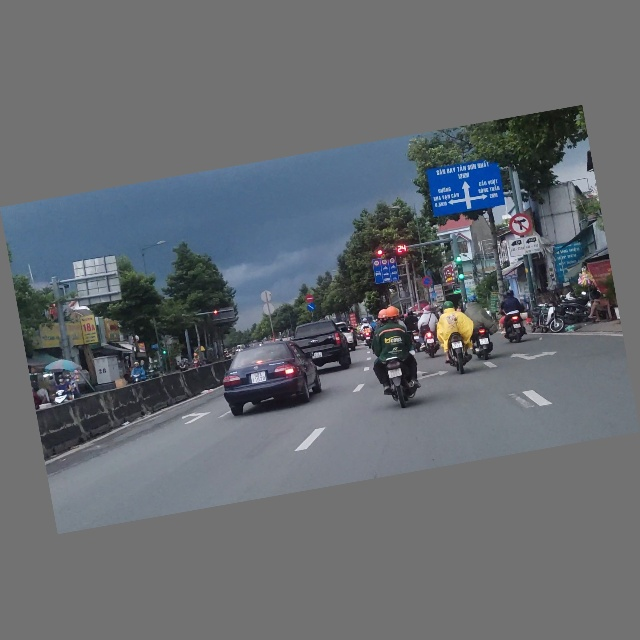P.102: (305, 294, 314, 304)
P.127*60: (373, 260, 380, 268), (380, 259, 388, 266)
P.131a: (421, 276, 433, 288)
P.137: (508, 212, 533, 238)
R.302a: (307, 303, 316, 312)
R.415a: (373, 264, 399, 285)
